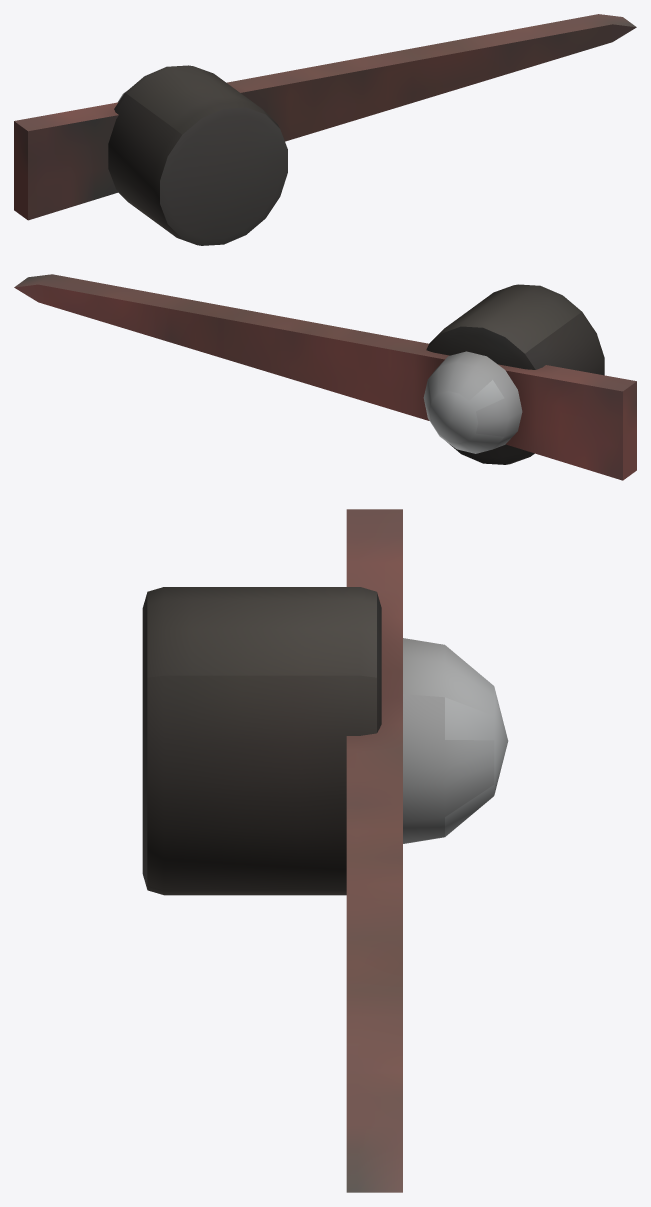
The model's file is SM_Circulator_01_Needle.fbx.
3 renders of one model, top to bottom at view 1: azimuth 30°, elevation 25°; view 2: azimuth 150°, elevation 25°; view 3: azimuth 270°, elevation 25°, orthographic. The views are drawn at different scales.
Parts seen in each view (by area): view 1: SM_Circulator_01_Needle; view 2: SM_Circulator_01_Needle; view 3: SM_Circulator_01_Needle.
Boxes of the visible parts, x1=… form: SM_Circulator_01_Needle: x1=14, y1=14, x2=636, y2=245; SM_Circulator_01_Needle: x1=14, y1=274, x2=636, y2=480; SM_Circulator_01_Needle: x1=142, y1=509, x2=508, y2=1192.
Bounding box in the file's own units: 10 × 2.2 × 2.6.
1 material, 1 textured.
